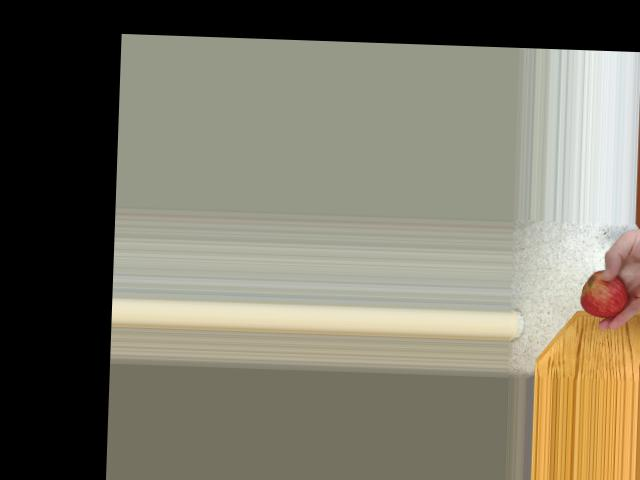apple: (577, 270, 631, 320)
